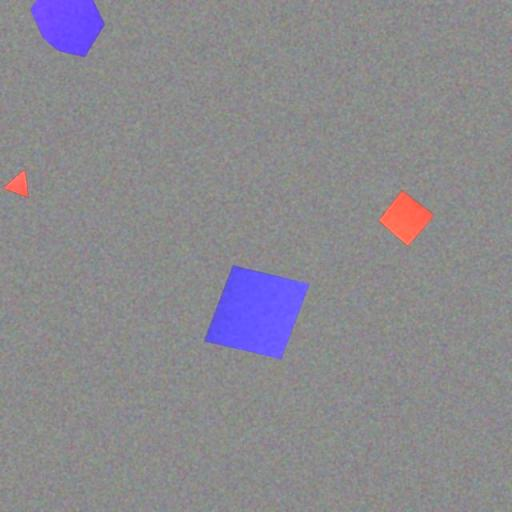BLUE_SQUARE: (204, 265, 310, 359)
RED_SQUARE: (378, 189, 436, 247)
